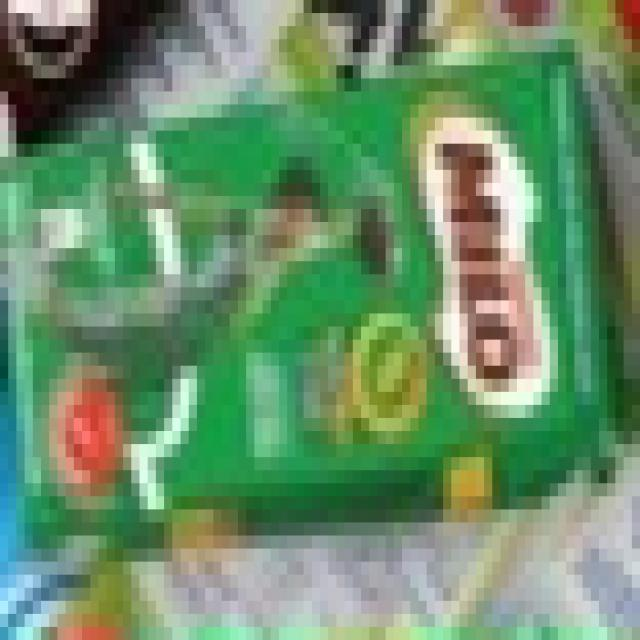drink carton: (19, 0, 640, 579)
